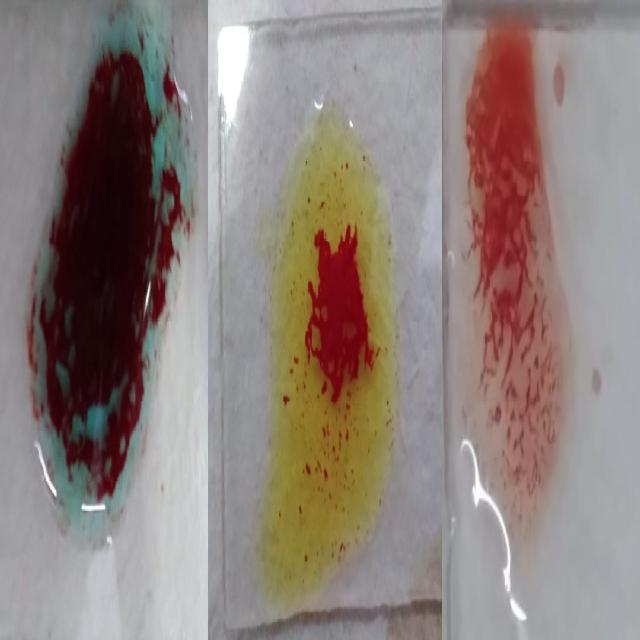A: (28, 10, 189, 535)
B: (273, 106, 395, 585)
D: (457, 14, 570, 530)
